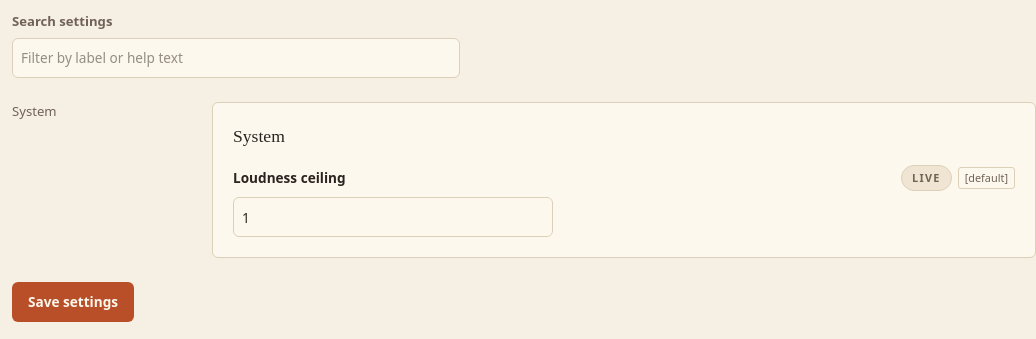
Test: Feature: Settings page renders the descriptor › Scenario: a search with no matches › shows "No settings match"
The image size is (1036, 339).
Step 1. Type "zzz-nothing-matches" into the search field labelled "Search settings" → (236, 58), box [12,38,460,78]
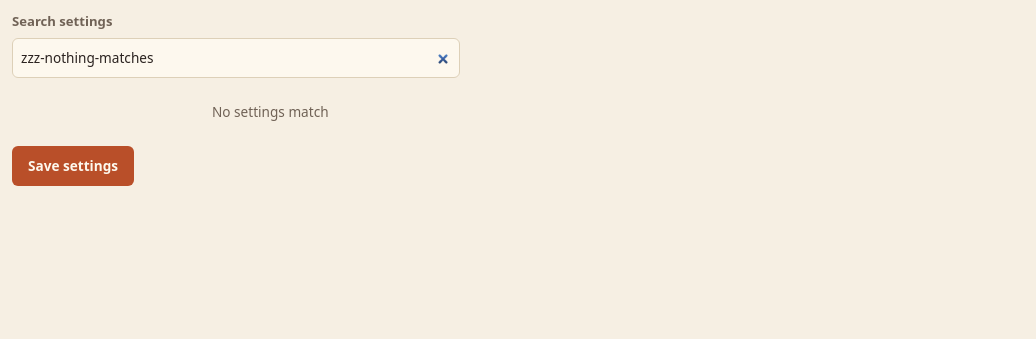
Check: the text "No settings match" is shown, box [212,102,329,121]
